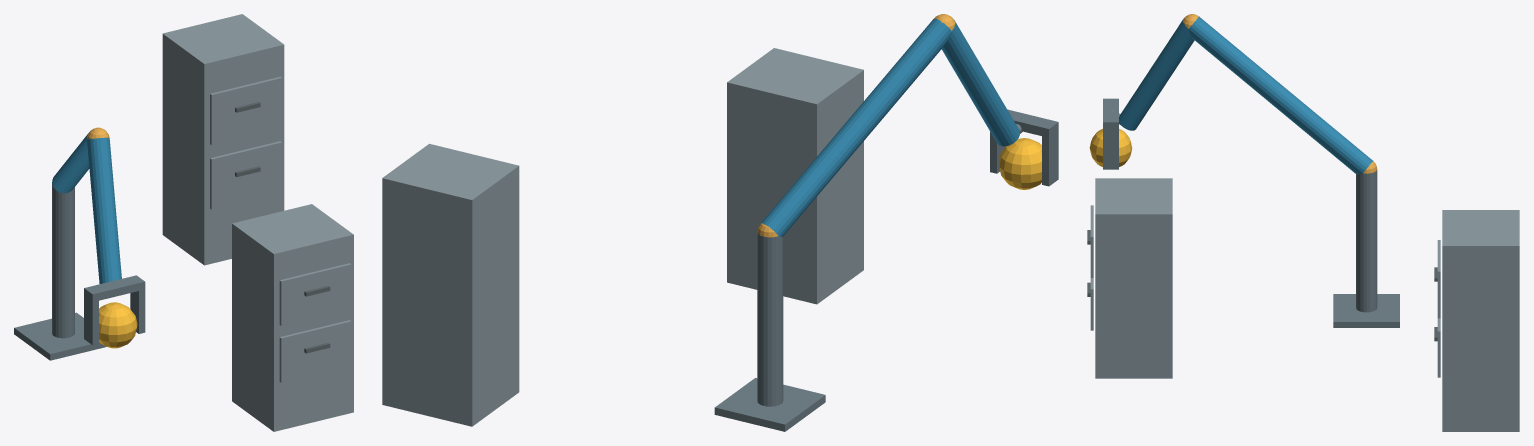
3 views of the same model, side by side, from view 1: azimuth 30°, elevation 25°; view 2: azimuth 150°, elevation 25°; view 3: azimuth 270°, elevation 25° (orthographic). The views are drawn at different scales.
Visible parts, largest first — view 1: cabinet_2 body, cabinet_1 body, cabinet_2 drawer front, cabinet_2 drawer front.001, moving link 2, fixed post, cabinet_1 drawer front, cabinet_1 drawer front.001, pedestal, ball ball_1, moving link 1, gripper bridge (+2 smaller); view 2: cabinet_2 body, cabinet_1 body, moving link 1, fixed post, moving link 2, pedestal, ball ball_1, gripper finger -1, gripper bridge; view 3: cabinet_2 body, cabinet_1 body, moving link 1, fixed post, moving link 2, pedestal, ball ball_1, gripper finger 1, gripper bridge.
Boxes of the visible parts, box(x1,y1,x2,y2) form: cabinet_2 body: box(162, 14, 284, 265); cabinet_1 body: box(232, 204, 353, 431); cabinet_2 drawer front: box(210, 141, 282, 209); cabinet_2 drawer front.001: box(210, 76, 282, 145); moving link 2: box(87, 137, 121, 283); fixed post: box(52, 184, 74, 338); cabinet_1 drawer front: box(279, 320, 351, 382); cabinet_1 drawer front.001: box(279, 263, 351, 325); pedestal: box(14, 312, 106, 360); ball ball_1: box(99, 302, 137, 348); moving link 1: box(52, 133, 89, 193); gripper bridge: box(84, 275, 145, 301); cabinet_2 body: box(382, 143, 519, 426); cabinet_1 body: box(727, 48, 863, 304); moving link 1: box(760, 18, 951, 236); fixed post: box(757, 232, 783, 406); moving link 2: box(941, 20, 1019, 146); pedestal: box(714, 378, 825, 431); ball ball_1: box(998, 138, 1041, 189); gripper finger -1: box(1042, 131, 1058, 186); gripper bridge: box(1007, 109, 1058, 137); cabinet_2 body: box(1442, 210, 1519, 431); cabinet_1 body: box(1095, 178, 1172, 378); moving link 1: box(1189, 16, 1372, 174); fixed post: box(1356, 169, 1377, 312); moving link 2: box(1119, 18, 1194, 130); pedestal: box(1333, 294, 1399, 327); ball ball_1: box(1089, 129, 1132, 166); gripper finger 1: box(1103, 129, 1118, 169); gripper bridge: box(1103, 98, 1118, 129).
Size of the model in its own units: 1.5 by 1.13 by 1.62.
